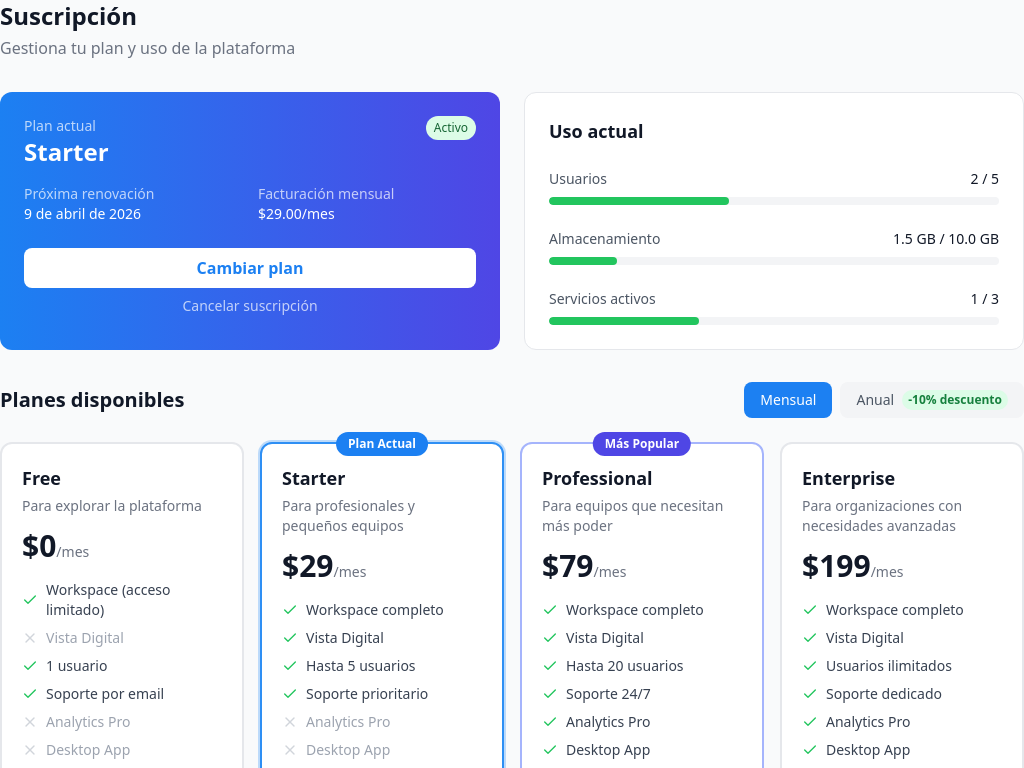
Test case: SubscriptionPage › abre el modal de cancelación al hacer clic en Cancelar suscripción
Click the button "Cancelar suscripción": (250, 306) [24, 296, 476, 316]
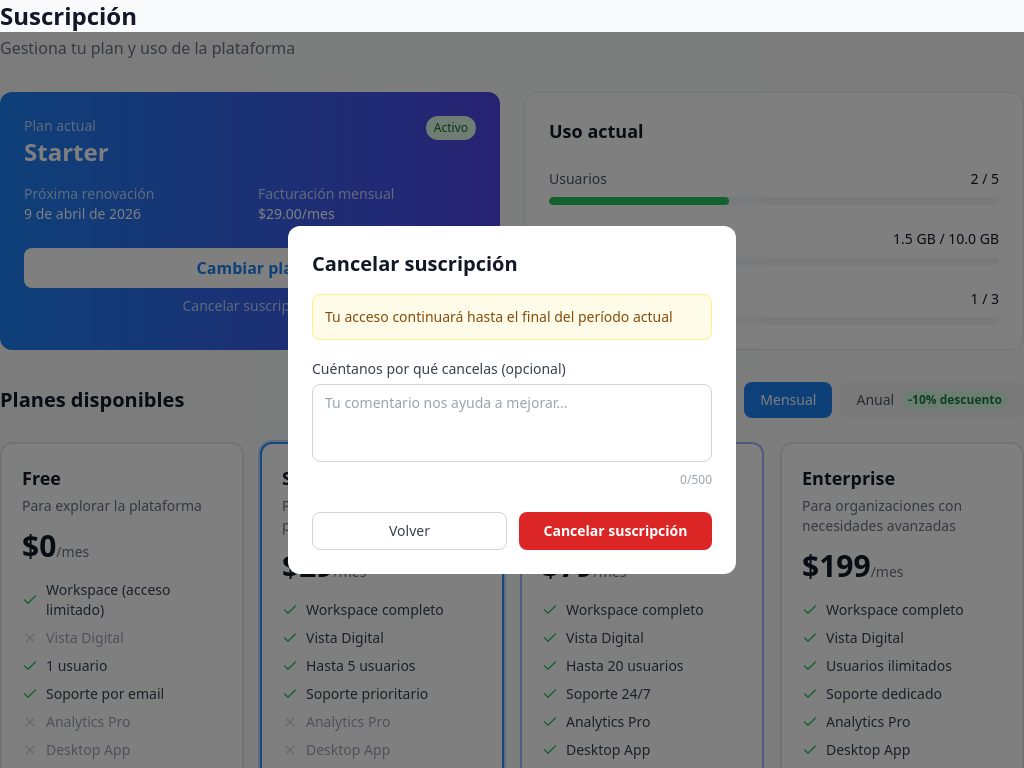
Now the dialog is shown, box [288, 226, 736, 574]
Now the heading "Cancelar suscripción" is shown, box [312, 250, 518, 277]
